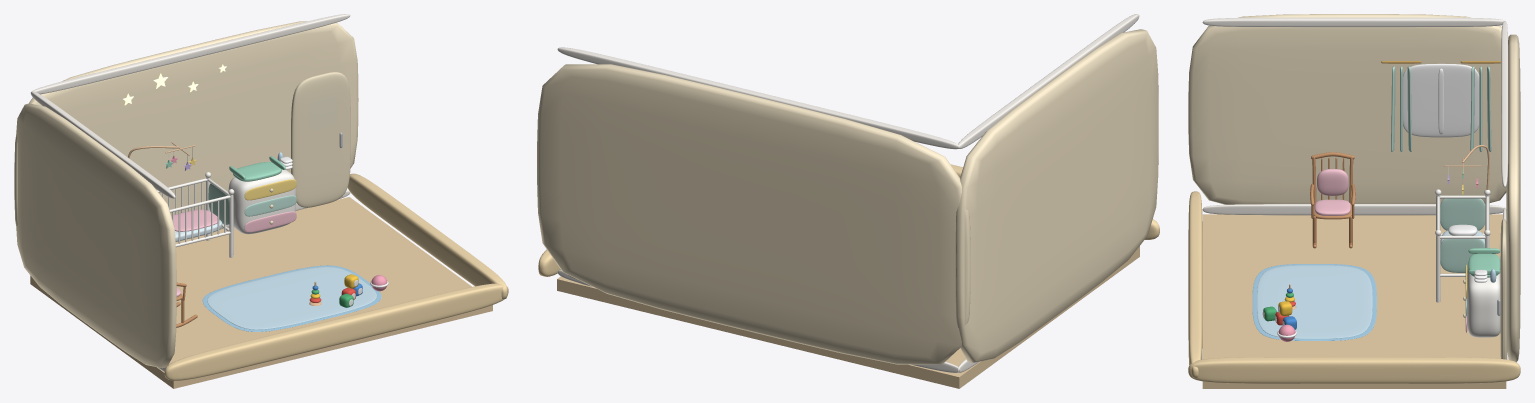
The model's file is casa_cuna.glb.
3 renders of one model, left to right at view 1: azimuth 30°, elevation 25°; view 2: azimuth 150°, elevation 25°; view 3: azimuth 270°, elevation 25°, orthographic. The views are drawn at different scales.
Visible parts, largest first — view 1: pared izquierda.002, pared fondo.002, piso.002, muro bajo frente.002, puerta.002, tapete.002, muro bajo derecha.002, cornisa fondo.002, cómoda, cornisa izquierda.002, borde tapete.002, cobija cuna (+5 smaller); view 2: pared fondo.002, pared izquierda.002, piso.002, cornisa fondo.002, cornisa izquierda.002; view 3: pared izquierda.002, piso.002, muro bajo derecha.002, tapete.002, marco, pared fondo.002, cornisa izquierda.002, muro bajo frente.002, zócalo izquierdo.002, cómoda, cabecera cuna, cornisa fondo.002 (+14 smaller).
Part boxes in pixels (<box>): pared izquierda.002: <box>16,103,176,368</box>; pared fondo.002: <box>14,21,358,226</box>; piso.002: <box>30,197,492,388</box>; muro bajo frente.002: <box>164,283,508,380</box>; puerta.002: <box>291,72,350,207</box>; tapete.002: <box>207,267,376,329</box>; muro bajo derecha.002: <box>347,173,507,299</box>; cornisa fondo.002: <box>30,14,350,94</box>; cómoda: <box>228,169,295,234</box>; cornisa izquierda.002: <box>31,91,175,198</box>; borde tapete.002: <box>202,265,381,331</box>; cobija cuna: <box>171,209,219,231</box>; pared fondo.002: <box>537,64,970,364</box>; pared izquierda.002: <box>955,29,1158,362</box>; piso.002: <box>557,246,1139,388</box>; cornisa fondo.002: <box>557,47,959,149</box>; cornisa izquierda.002: <box>957,14,1139,148</box>; pared izquierda.002: <box>1188,14,1520,204</box>; piso.002: <box>1202,214,1506,388</box>; muro bajo derecha.002: <box>1188,357,1520,383</box>; tapete.002: <box>1257,265,1372,338</box>; marco: <box>1403,63,1479,137</box>; pared fondo.002: <box>1506,34,1520,362</box>; cornisa izquierda.002: <box>1202,17,1504,27</box>; muro bajo frente.002: <box>1188,191,1202,378</box>; zócalo izquierdo.002: <box>1202,204,1506,215</box>; cómoda: <box>1466,268,1500,337</box>; cabecera cuna: <box>1440,198,1485,230</box>; cornisa fondo.002: <box>1501,21,1508,187</box>.
Bounding box in the file's own units: 5.8 × 3.15 × 4.6.
